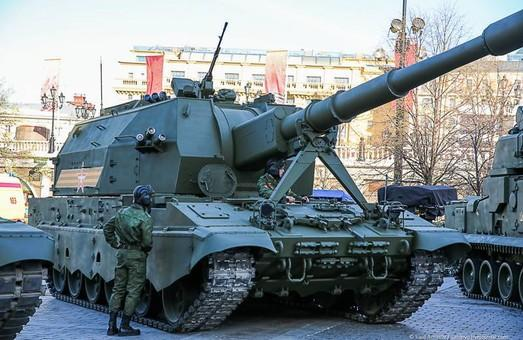sau: (45, 14, 523, 327)
